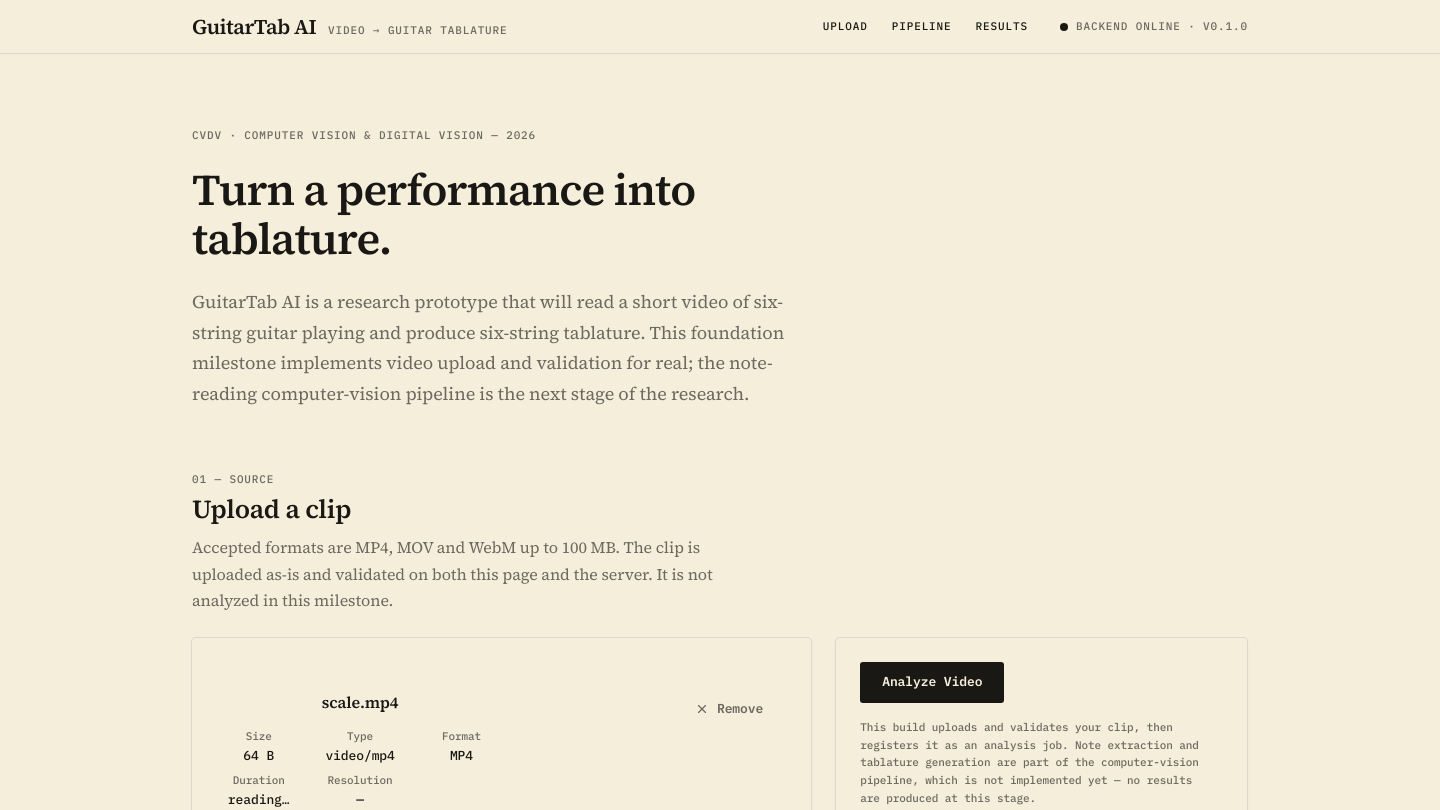
it: HomePage — upload lifecycle › surfaces upload errors as useful messages
The width and height of the screenshot is (1440, 810).
Earlier steps of the test are not shown.
Expected: the text "Backend online · v0.1.0" is shown, [1076,21,1248,32]
Click the button "Analyze Video" at (932, 683), box [860,662,1004,703]
(page scrolled)
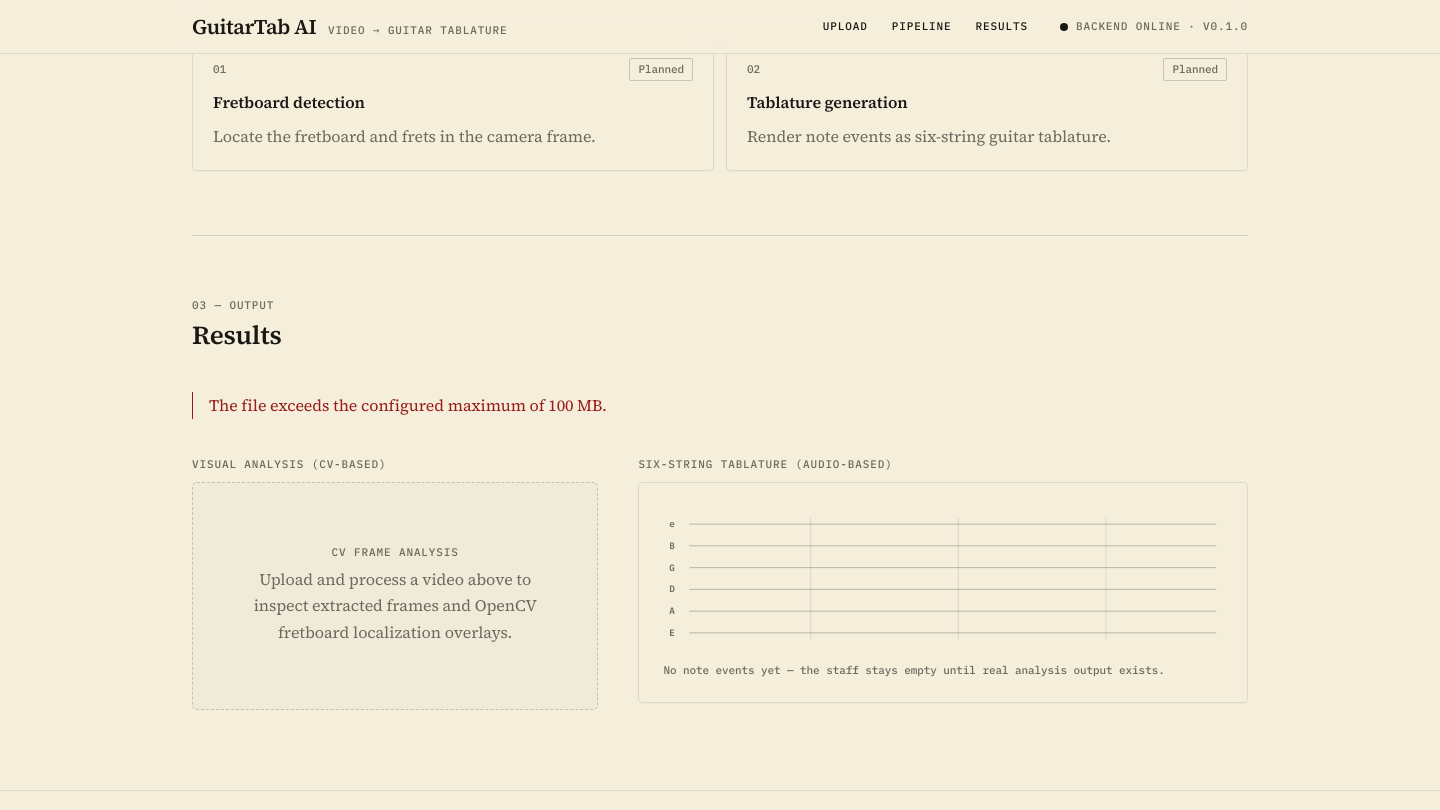
Expected: the text "The file exceeds the configured maximum of 100 MB." is shown, [192,392,717,419]
